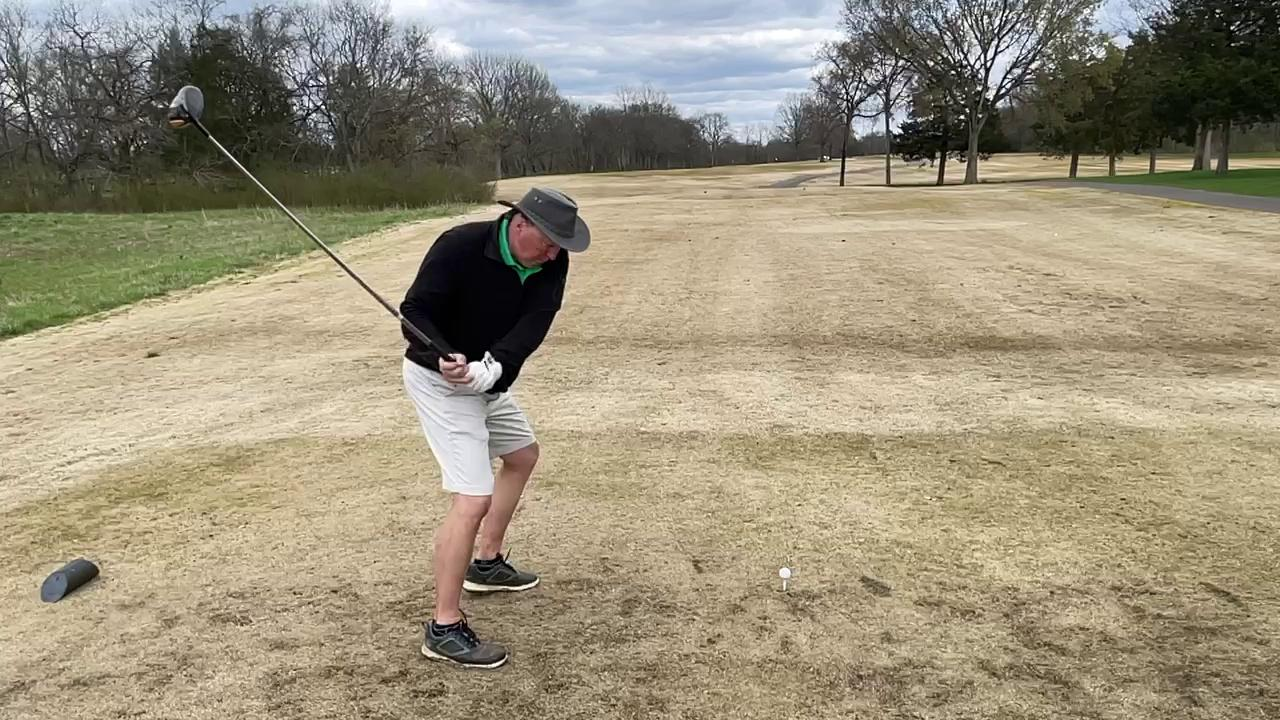ClubHead: (163, 78, 217, 143)
GolfBall: (777, 565, 794, 583)
